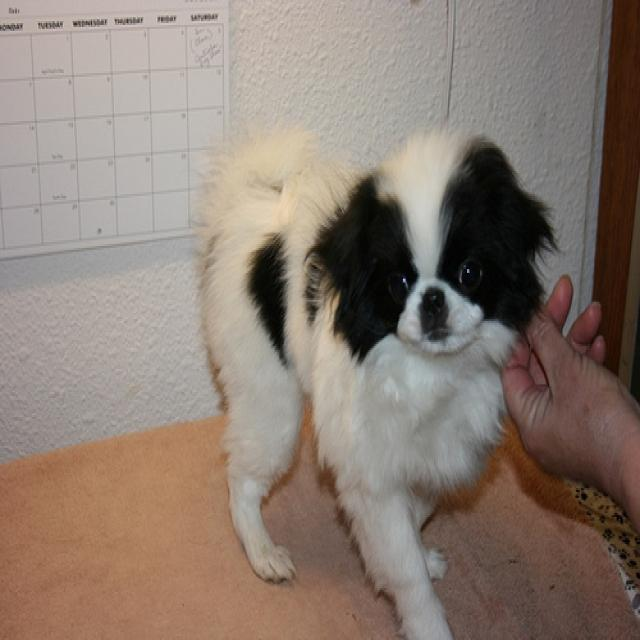dog-japanese_chin: (184, 119, 568, 636)
